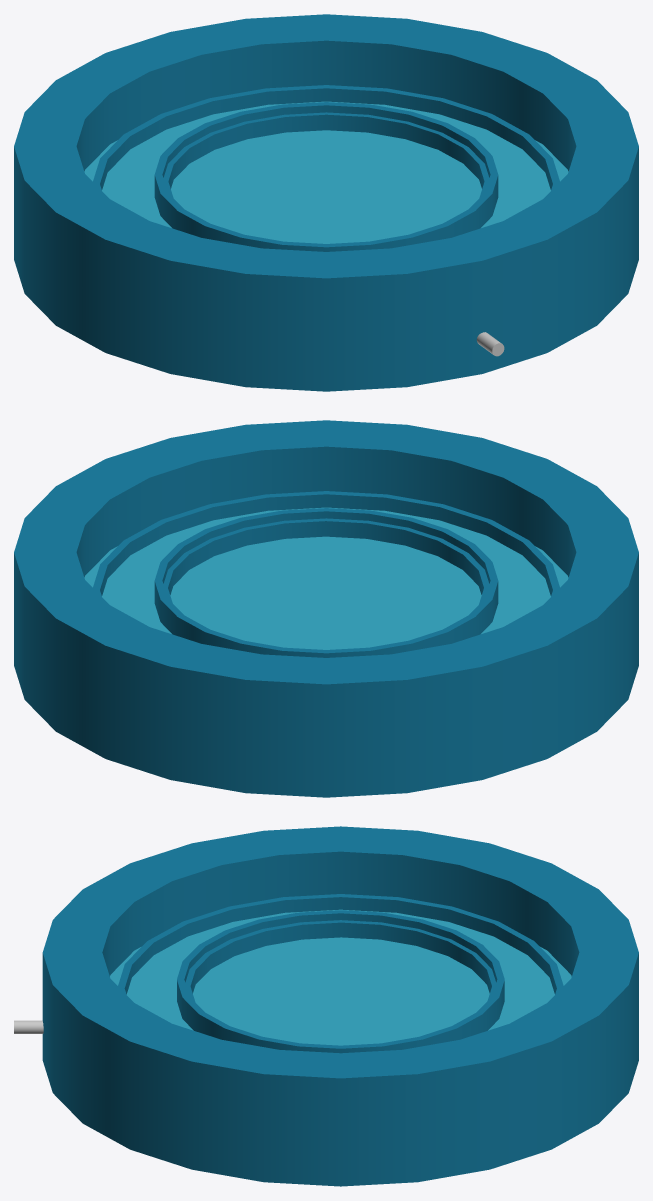
The model's file is mud_storage_pool.obj.
3 views of the same model, one above another, from view 1: azimuth 30°, elevation 25°; view 2: azimuth 150°, elevation 25°; view 3: azimuth 270°, elevation 25° (orthographic). The views are drawn at different scales.
Parts seen in each view (by area): view 1: __.1, __3.1, __2.1, __4.1; view 2: __.1, __3.1, __2.1, __4.1; view 3: __.1, __3.1, __2.1, __4.1.
Part boxes in pixels (bbox=[...]): __.1: bbox=[14, 14, 638, 391]; __3.1: bbox=[154, 102, 498, 251]; __2.1: bbox=[93, 85, 559, 190]; __4.1: bbox=[163, 112, 489, 197]; __.1: bbox=[14, 420, 638, 797]; __3.1: bbox=[154, 508, 498, 657]; __2.1: bbox=[93, 491, 559, 596]; __4.1: bbox=[163, 518, 489, 604]; __.1: bbox=[42, 826, 638, 1186]; __3.1: bbox=[177, 910, 504, 1053]; __2.1: bbox=[118, 894, 563, 994]; __4.1: bbox=[185, 920, 496, 1002].
Size of the model in its own units: 4000 by 800 by 4193.
